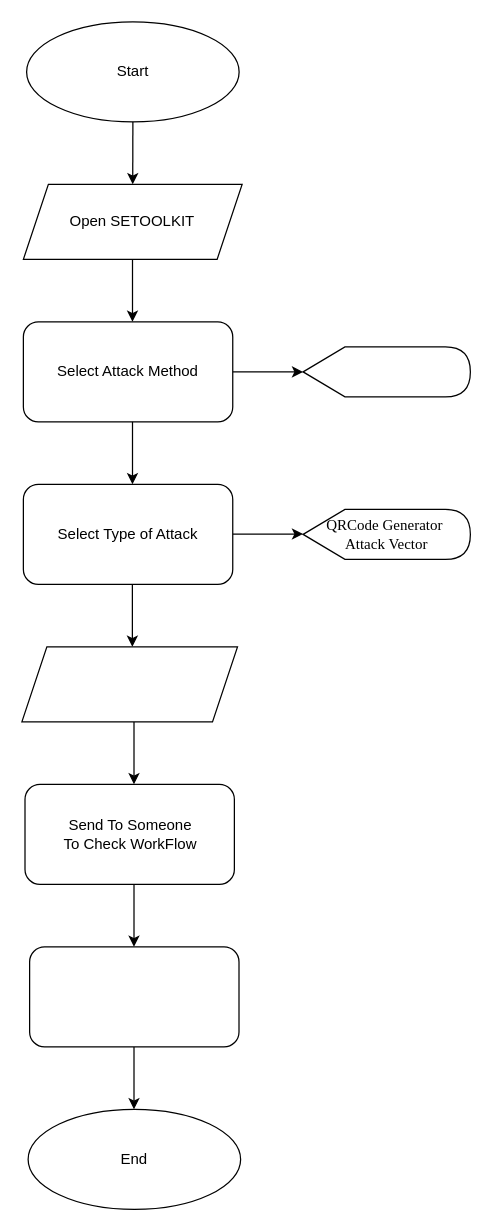
Image size: 493x1231. Some labels were removed from this diagram. The shapes that lost their labels are listed below. From the top down, each one's centre as x and y in pixels, then its label:
At point 386,371: "Social Engg. Attack".
At point 129,684: "Enter URL To Make QRCode".
At point 133,996: "Analyze The Process".
